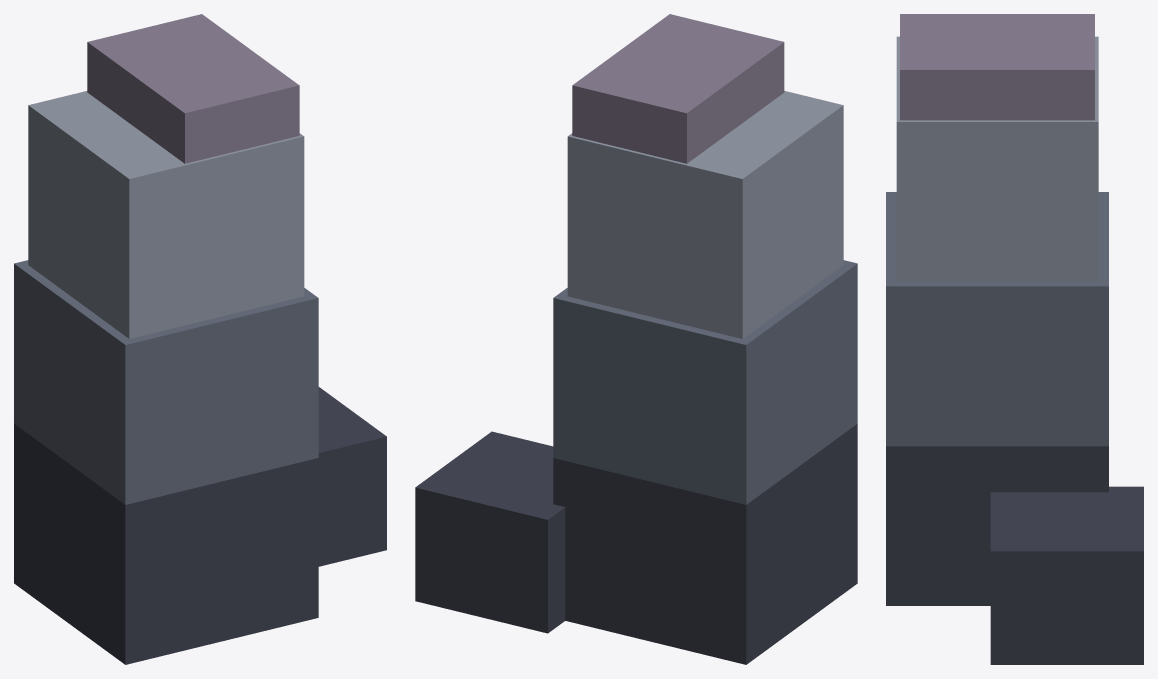
File: TW_STONE_END_RUIN_A_LOD0.glb
The picture shows the model from 3 angles, left to right: view 1: azimuth 30°, elevation 25°; view 2: azimuth 150°, elevation 25°; view 3: azimuth 270°, elevation 25°; orthographic projection.
Parts seen in each view (by area): view 1: TW_STONE_END_RUIN_A_LOD0; view 2: TW_STONE_END_RUIN_A_LOD0; view 3: TW_STONE_END_RUIN_A_LOD0.
Boxes of the visible parts, bbox=[...] form: TW_STONE_END_RUIN_A_LOD0: bbox=[14, 14, 386, 664]; TW_STONE_END_RUIN_A_LOD0: bbox=[415, 14, 857, 664]; TW_STONE_END_RUIN_A_LOD0: bbox=[886, 14, 1143, 664].
Bounding box in the file's own units: 0.52 × 0.84 × 0.37.
1 material, 1 textured.
